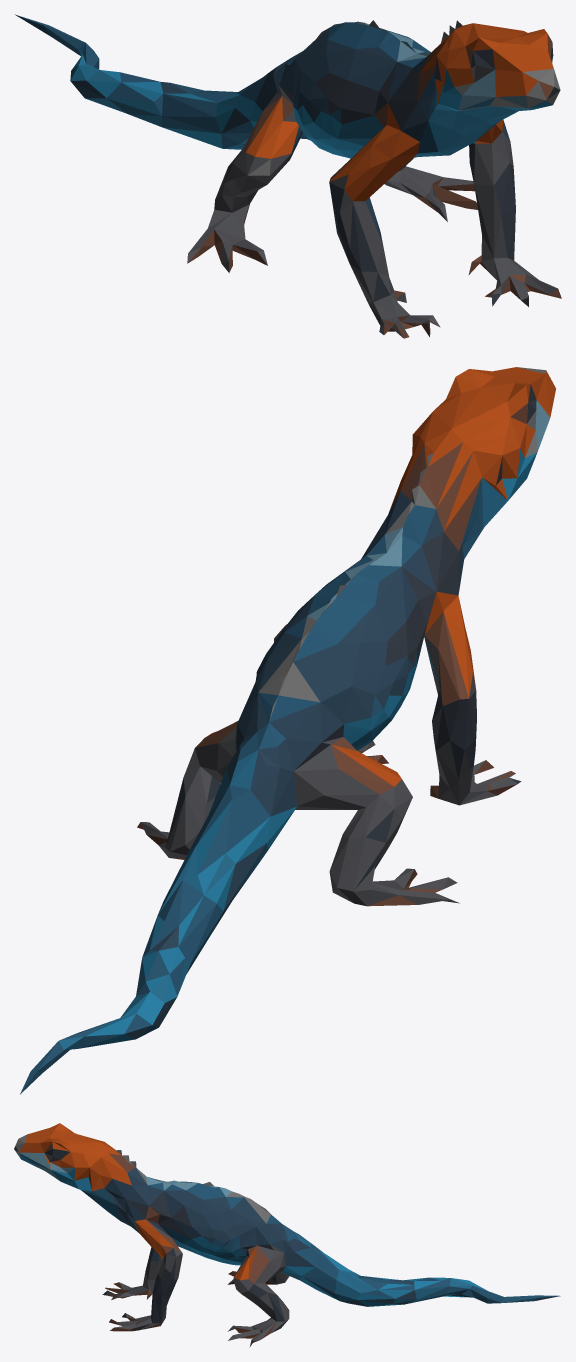
The model's file is agama_mwanzae.glb.
The picture shows the model from 3 angles, top to bottom: view 1: azimuth 30°, elevation 25°; view 2: azimuth 150°, elevation 25°; view 3: azimuth 270°, elevation 25°; orthographic projection. The views are drawn at different scales.
Visible parts, largest first — view 1: lod0; view 2: lod0; view 3: lod0.
Boxes of the visible parts, left/top/right/bottom form: lod0: left=15, top=14, right=561, bottom=338; lod0: left=20, top=367, right=555, bottom=1094; lod0: left=14, top=1123, right=560, bottom=1347.
Size of what is drawn, in the model's own units: 0.0874 by 0.0922 by 0.2568.
